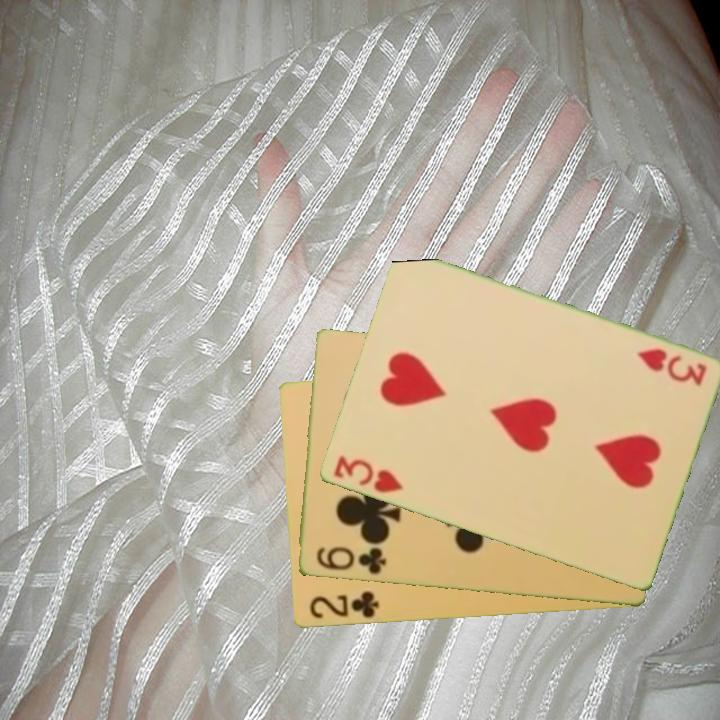2c: (305, 587, 381, 622)
3h: (329, 451, 405, 497), (632, 345, 709, 389)
6c: (312, 543, 388, 578)
